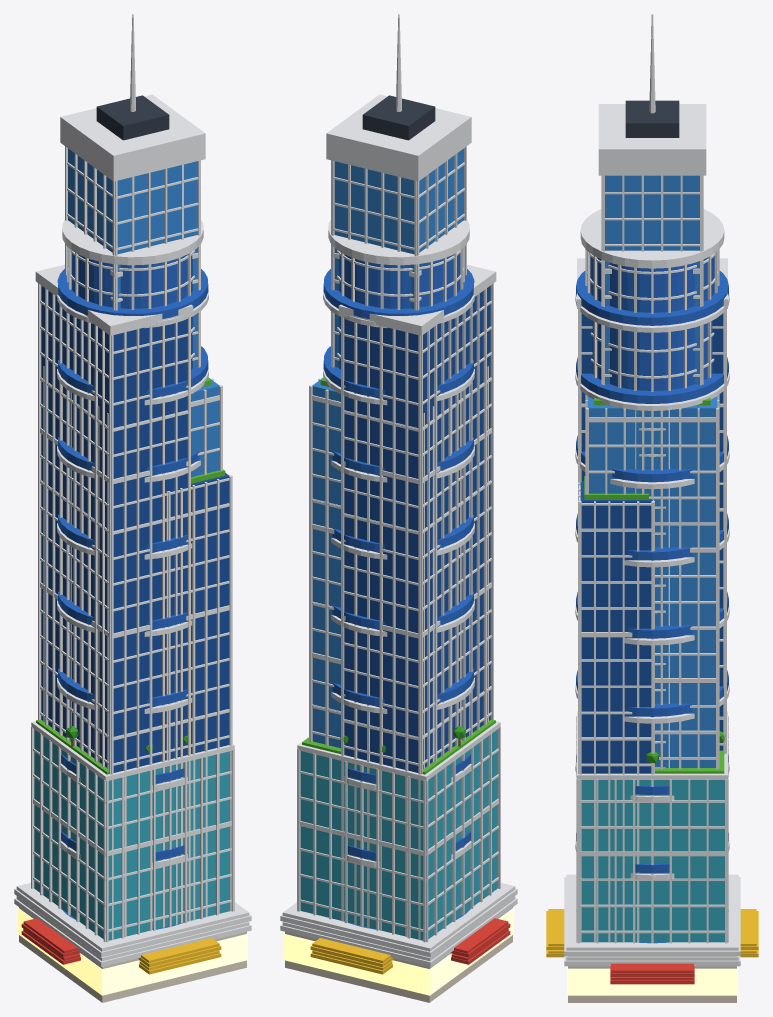
File: cb_towers.glb
The picture shows the model from 3 angles, left to right: view 1: azimuth 30°, elevation 25°; view 2: azimuth 150°, elevation 25°; view 3: azimuth 270°, elevation 25°; orthographic projection.
Parts seen in each view (by area): view 1: cbC_0, cbD_0, cbA_0, cbB_0, cbC_1; view 2: cbC_0, cbA_0, cbD_0, cbB_0, cbC_1; view 3: cbA_0, cbC_0, cbB_0, cbD_0.
Boxes of the visible parts, <box> form: cbC_0: <box>14,264,251,993</box>; cbD_0: <box>14,719,251,1002</box>; cbA_0: <box>16,14,249,963</box>; cbB_0: <box>16,219,249,970</box>; cbC_1: <box>40,377,229,740</box>; cbC_0: <box>280,264,517,993</box>; cbA_0: <box>282,14,515,963</box>; cbD_0: <box>280,719,517,1002</box>; cbB_0: <box>282,219,515,970</box>; cbC_1: <box>344,377,491,740</box>; cbA_0: <box>548,14,756,972</box>; cbC_0: <box>546,258,758,993</box>; cbB_0: <box>548,209,756,980</box>; cbD_0: <box>546,711,758,1002</box>.
Size of the model in its own units: 1.18 by 5.85 by 1.18.
